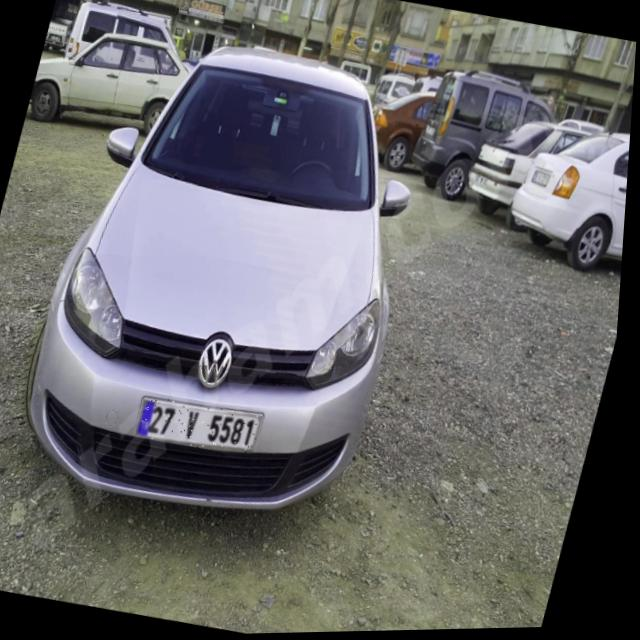license_plate: (140, 394, 269, 461)
